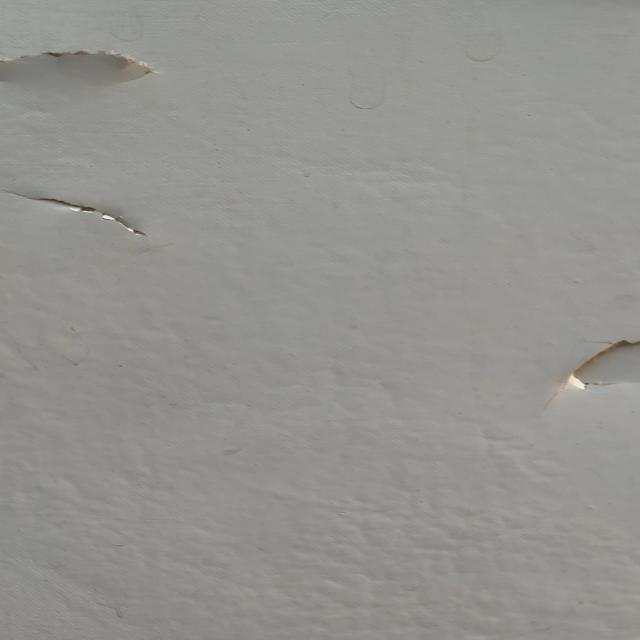Scratches: (1, 37, 175, 107), (7, 189, 165, 257), (552, 326, 640, 403)
